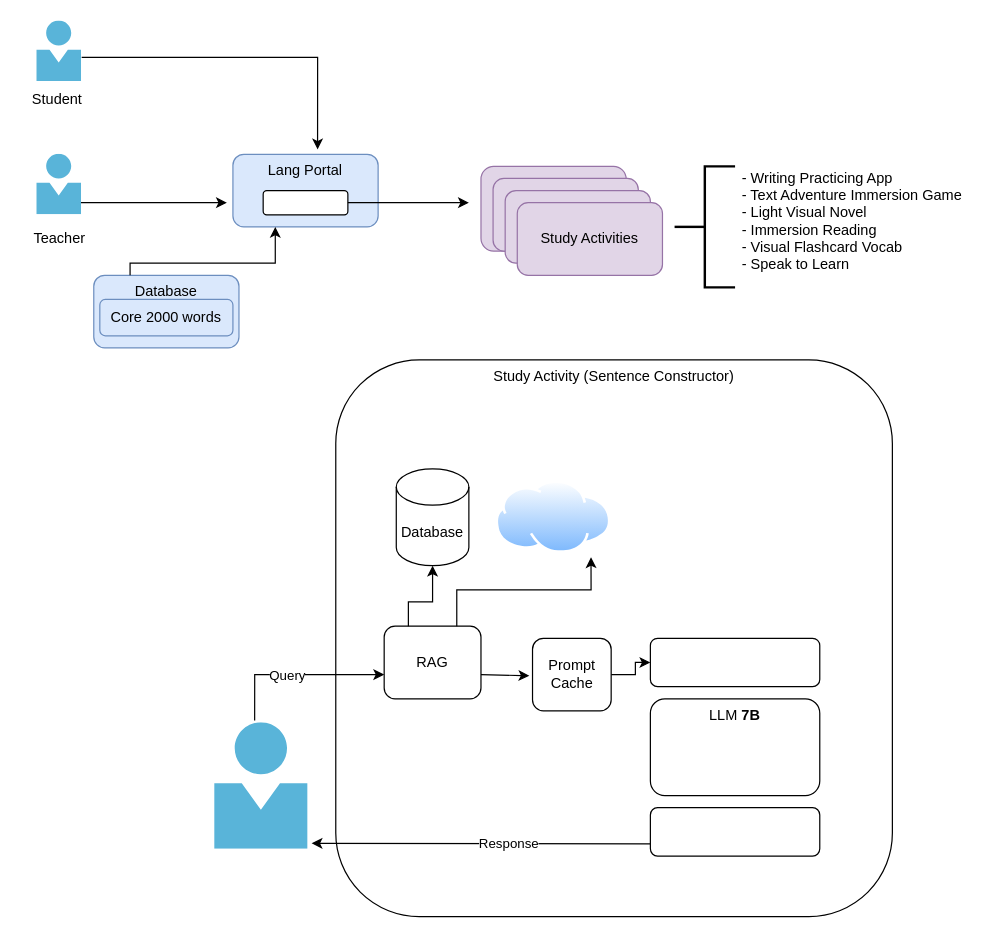
This 997x938 diagram has some shape labels left out. Here are the shapes that lost their labels. From the top down, the centre of each, then its label:
point (305, 202): Word Group
point (553, 516): Internet
point (734, 662): Input GuardRail
point (734, 831): Output GuardRail
